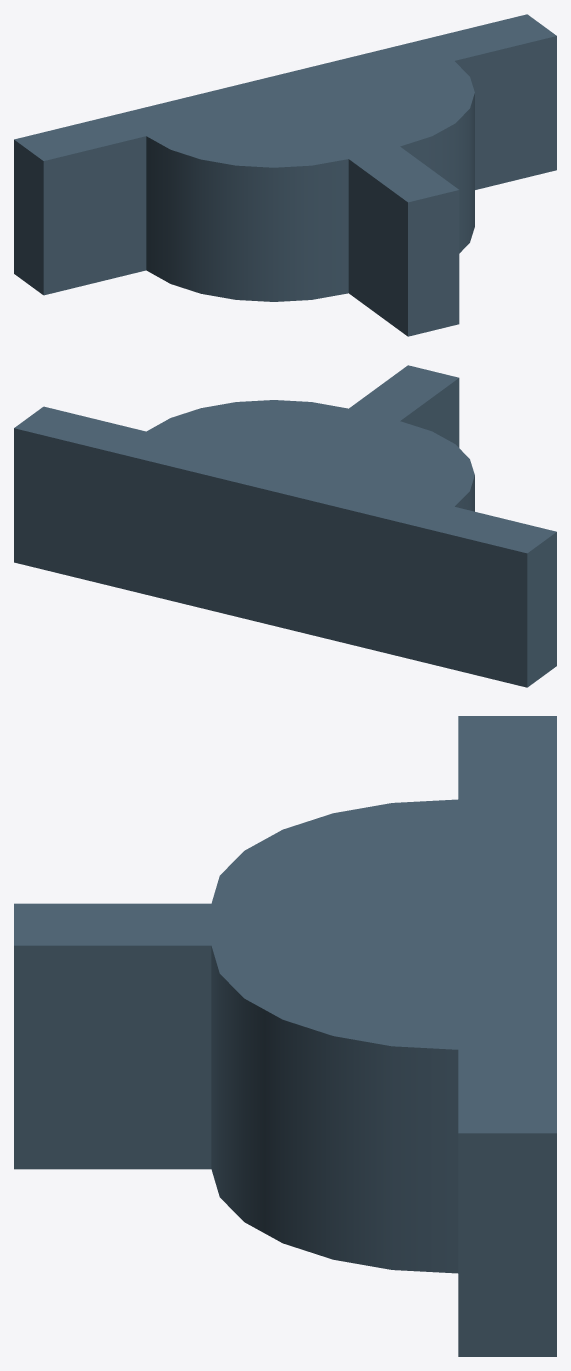
The model's file is W1_WallCorner_Round2C_Top.fbx.
3 views of the same model, one above another, from view 1: azimuth 30°, elevation 25°; view 2: azimuth 150°, elevation 25°; view 3: azimuth 270°, elevation 25° (orthographic). The views are drawn at different scales.
Visible parts, largest first — view 1: W1_WallCorner_Round2C_Top.001; view 2: W1_WallCorner_Round2C_Top.001; view 3: W1_WallCorner_Round2C_Top.001.
Boxes of the visible parts, left/top/right/bottom form: W1_WallCorner_Round2C_Top.001: left=14, top=14, right=556, bottom=336; W1_WallCorner_Round2C_Top.001: left=14, top=365, right=556, bottom=687; W1_WallCorner_Round2C_Top.001: left=14, top=716, right=556, bottom=1356.
Size of the model in its own units: 2 by 0.5 by 1.1.
